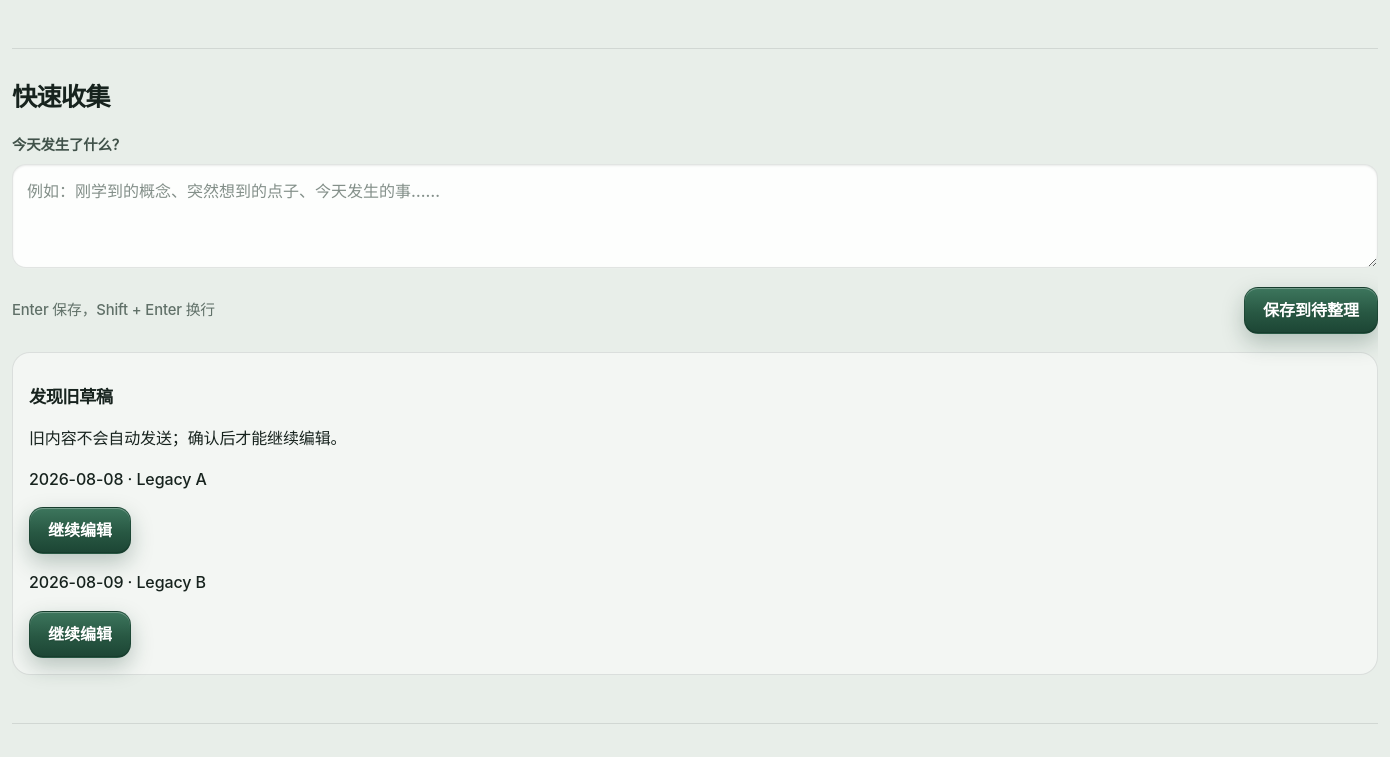
Test: TodayCapture › surfaces legacy drafts without network activity and recovers only by explicit action
This screenshot has width=1390, height=757.
Expected: the text "2026-08-08 · Legacy A" is shown, [29, 469, 207, 489]
Expected: the text "2026-08-09 · Legacy B" is shown, [29, 572, 206, 592]
Click the button "继续编辑" below "2026-08-08".
click(80, 531)  # box [29, 507, 131, 554]
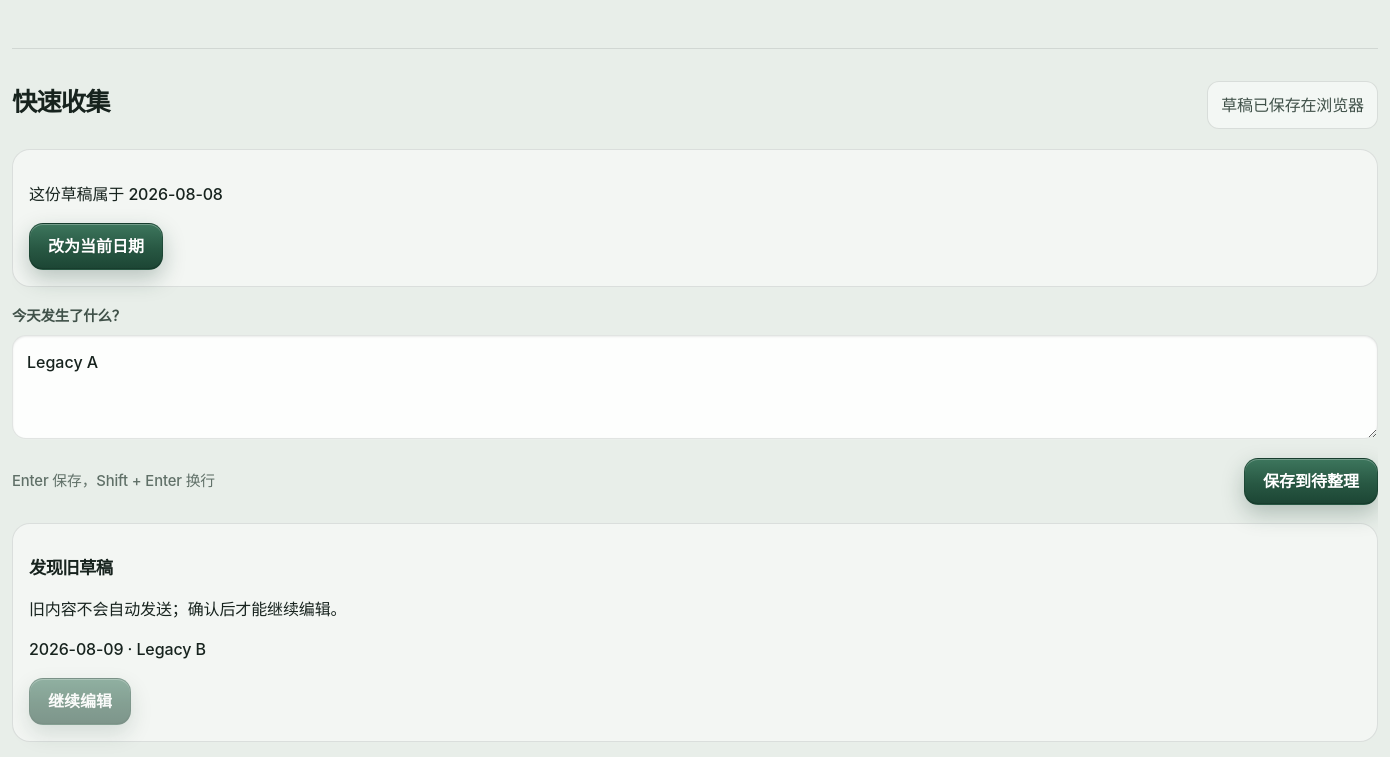
Expected: the text box holds "Legacy A", [12, 335, 1378, 439]
